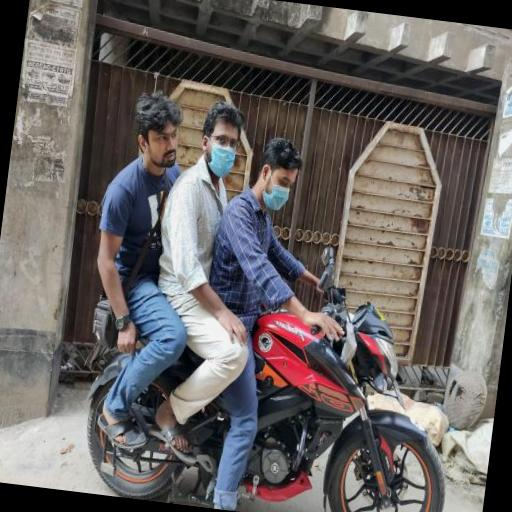no helmet: (246, 118, 347, 249)
triple riding: (57, 66, 508, 512)
